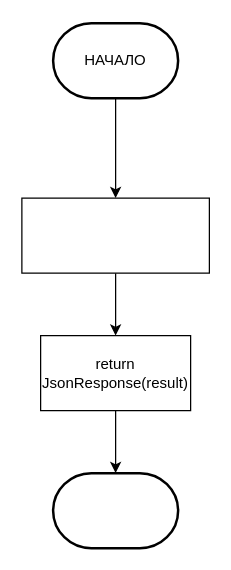
The diagram is 231 pixels wide and 570 high, and some of its shapes have lost their labels. The centre of each missing label's shape, as x and y in pixels:
"Вызов GetEmailState(emailInfo)" goes at point (115, 235).
"КОНЕЦ" goes at point (115, 510).
